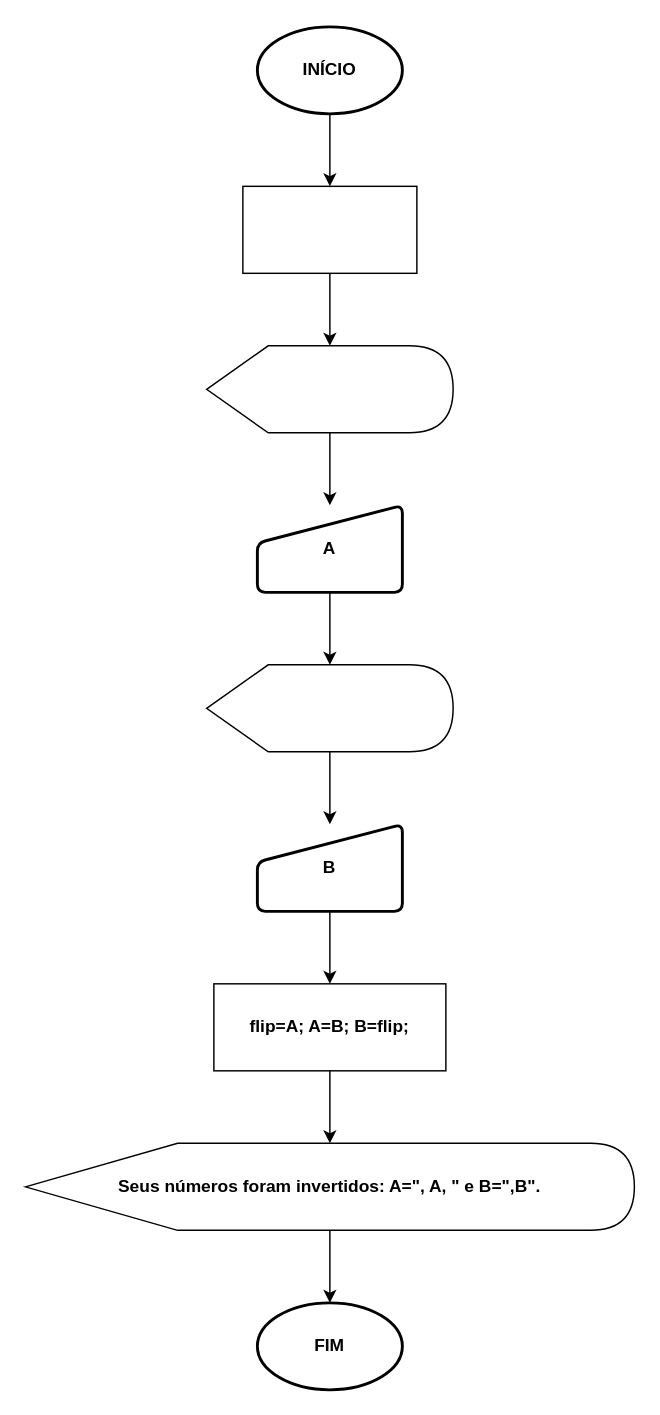
Some shapes in this 660 by 1415 pixel diagram are drawn without their labels. The shapes that lost their labels are listed below. From the top down, each one's centre as x and y in pixels, then its label:
At point 329,229: "A, B, flip".
At point 329,388: "Digite um valor para A:".
At point 329,707: "Digite um valor para B:".
